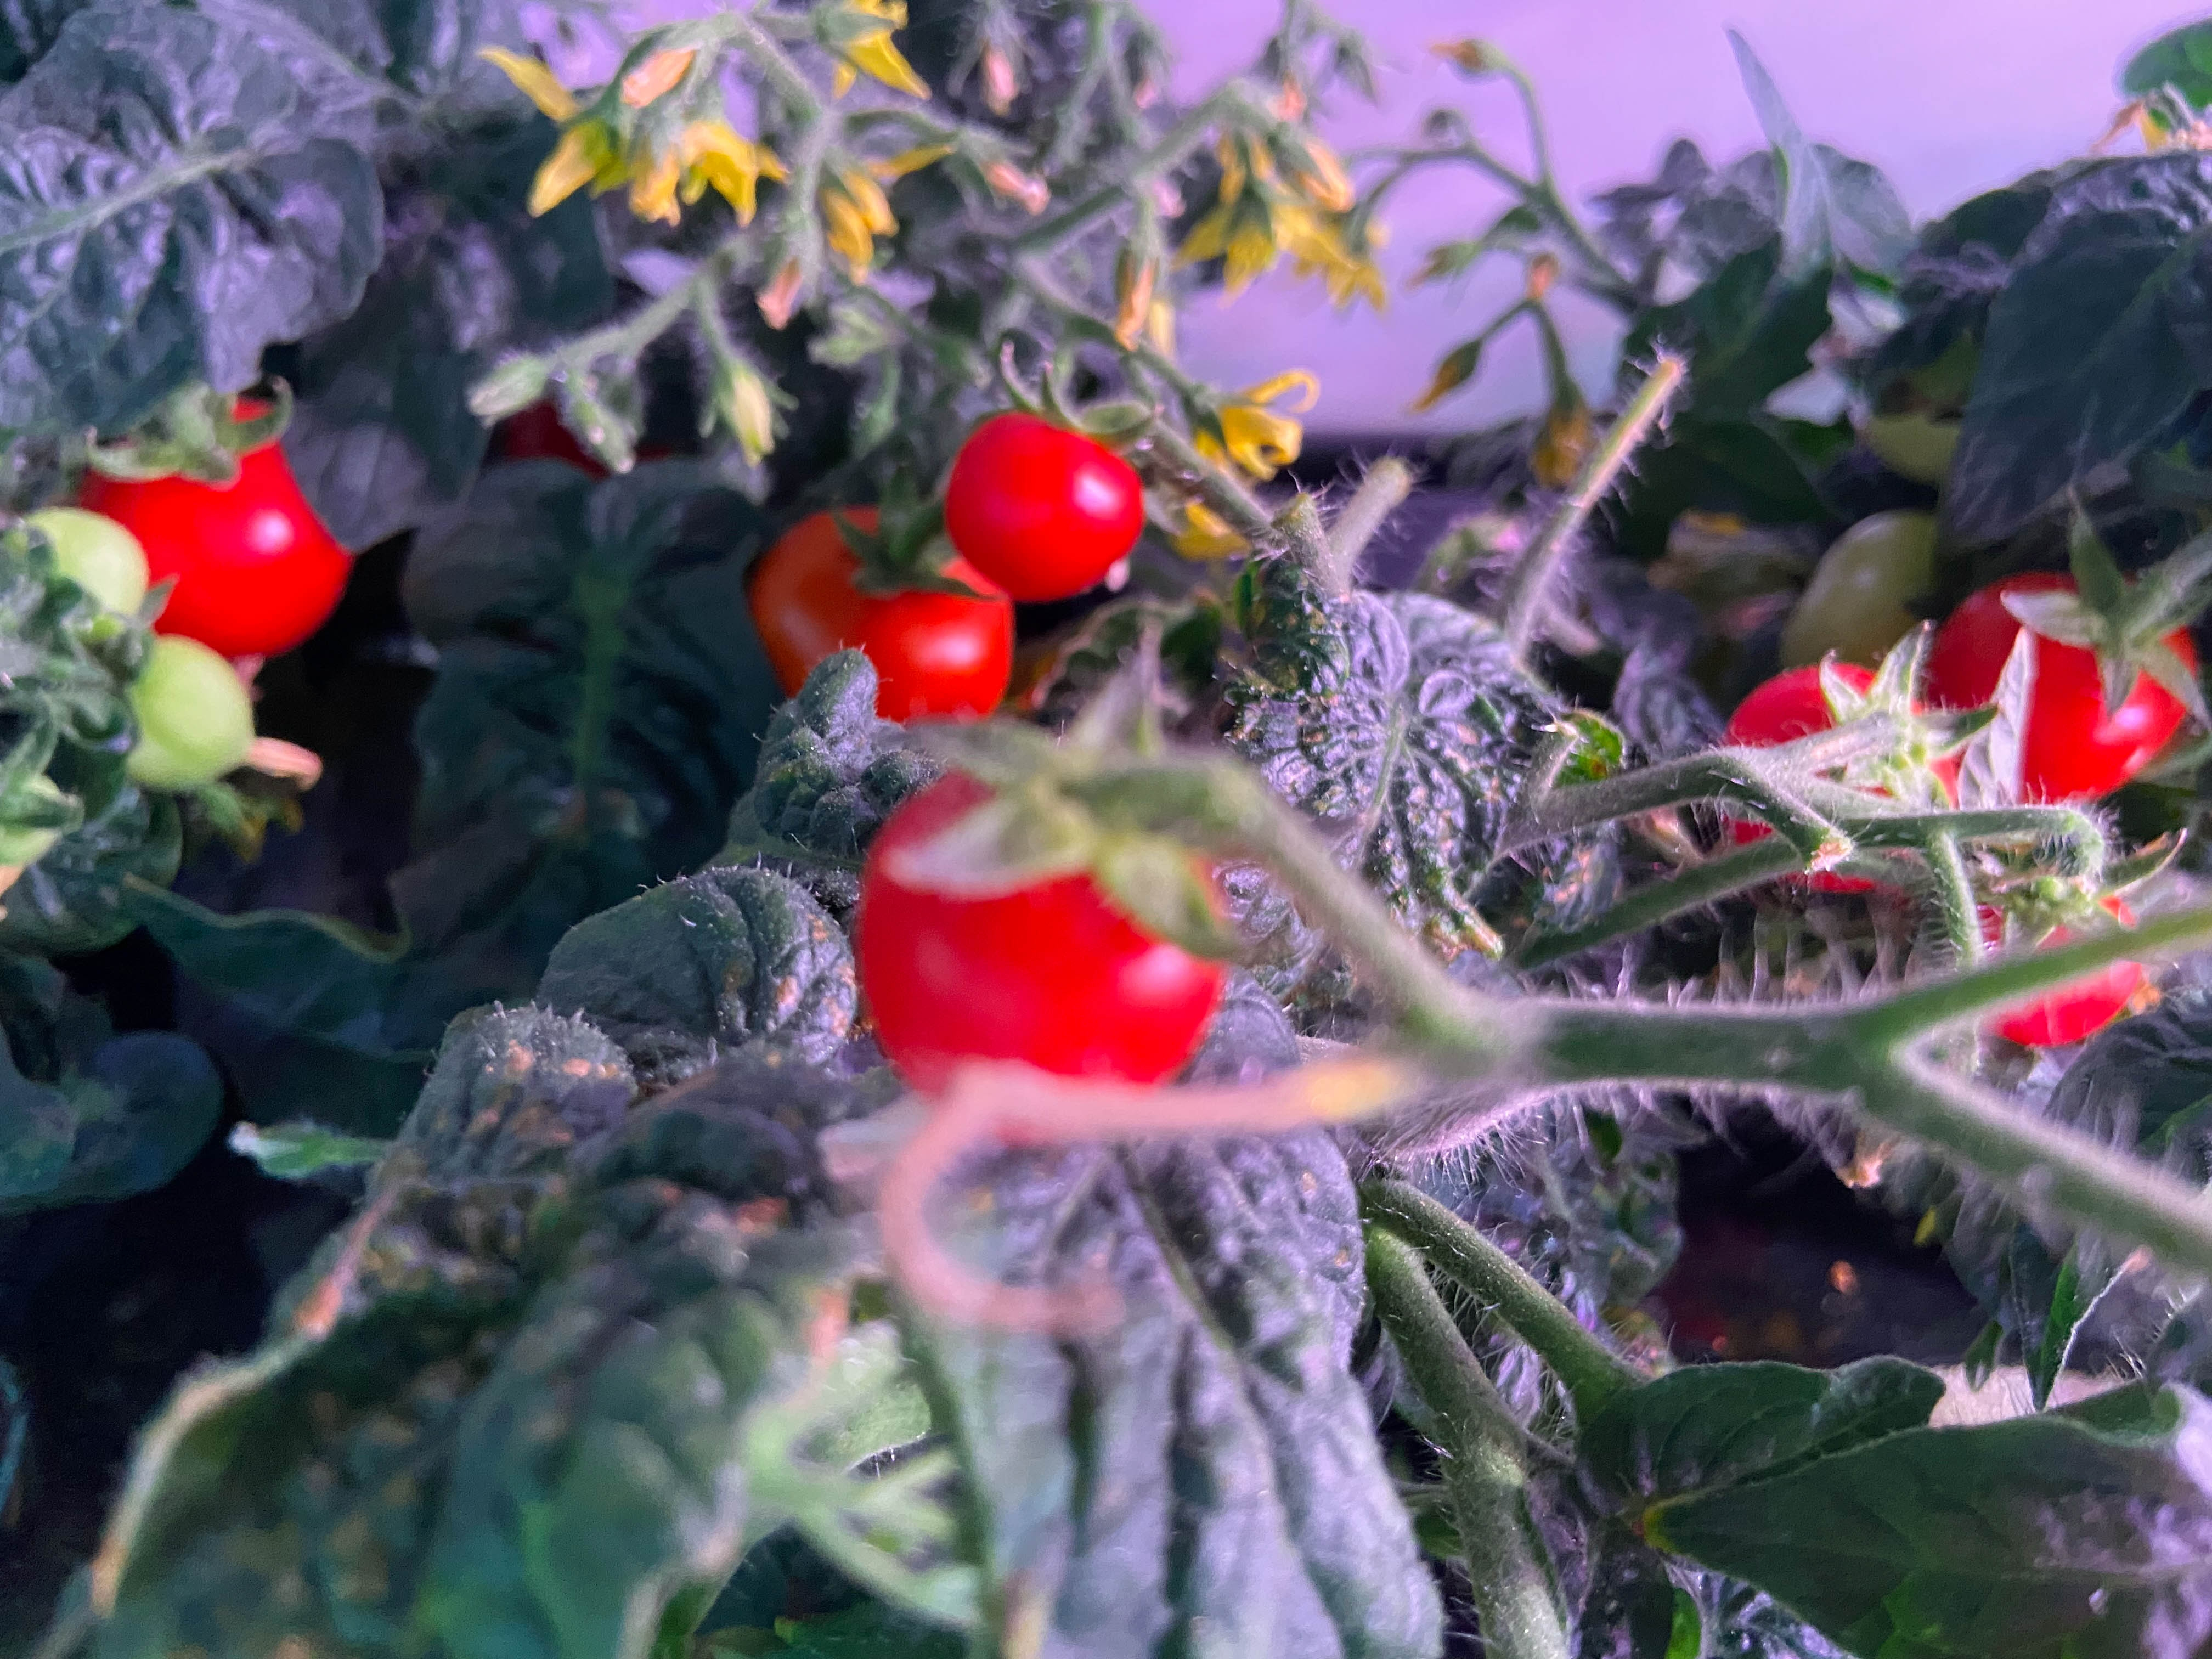green: (1789, 504, 1970, 673), (1838, 321, 2015, 477), (110, 633, 260, 789), (2, 505, 150, 659)
red: (850, 751, 1240, 1105), (87, 394, 361, 666), (749, 498, 1015, 742), (1716, 657, 1952, 877), (1982, 592, 2203, 805), (941, 401, 1146, 596), (1975, 875, 2148, 1051), (470, 356, 665, 495)
